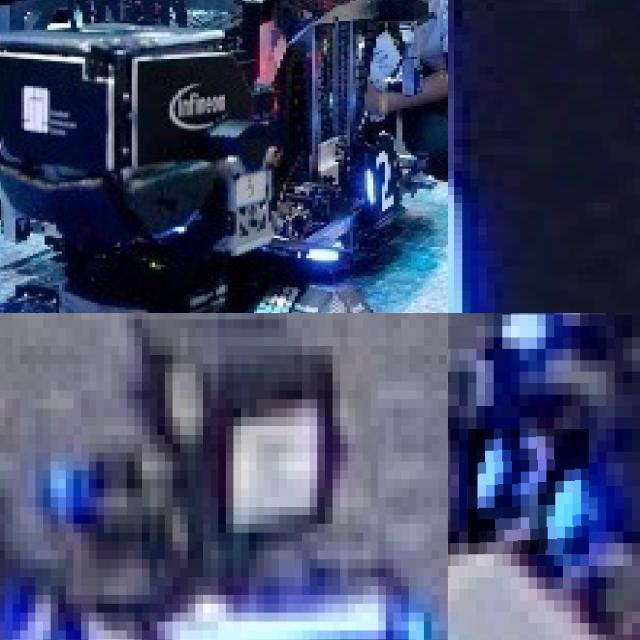B3: (468, 429, 589, 554)
B4: (0, 585, 73, 640)
